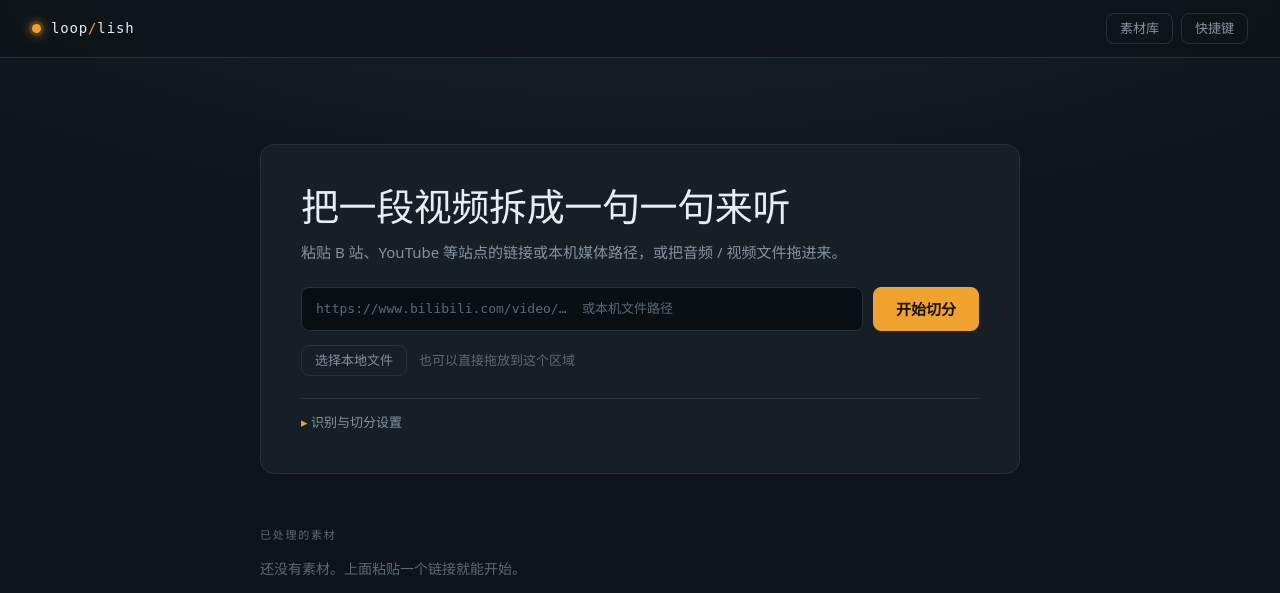
Test case: submission › pastes the link over the selection and keeps the rest of the input
This screenshot has width=1280, height=593.
Step 1. Type "https://old.test/v" into the field named "视频链接或本机媒体路径" → [582, 309], box [301,287,863,330]
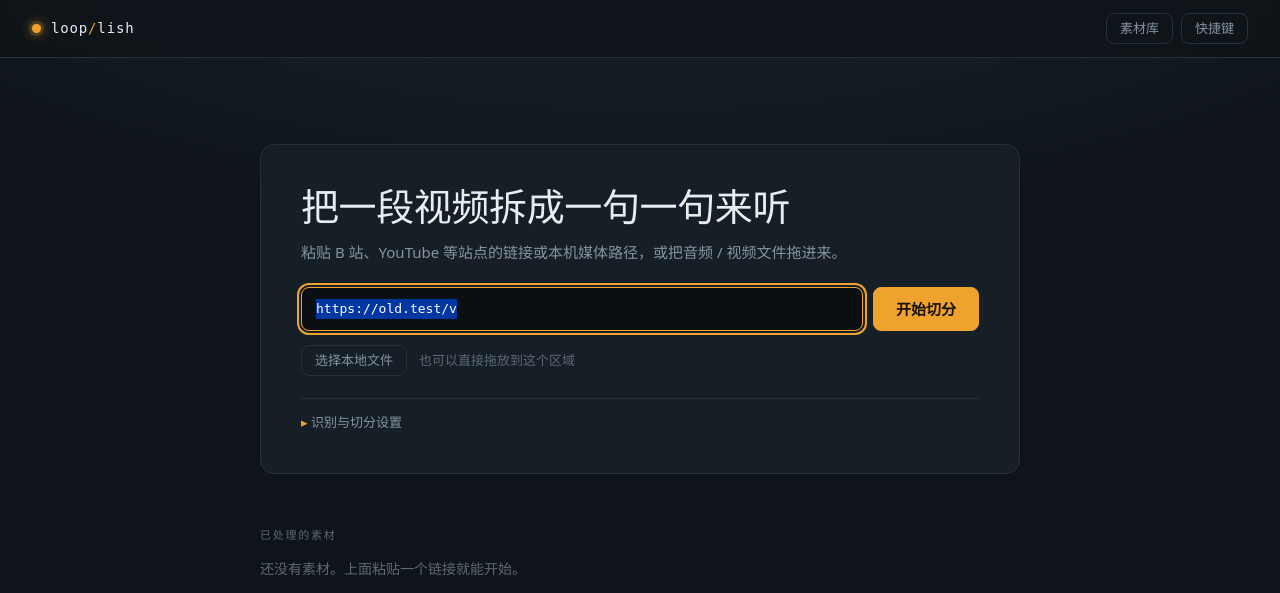
Step 2. Type keys "【新视频】 https://new.test/v"
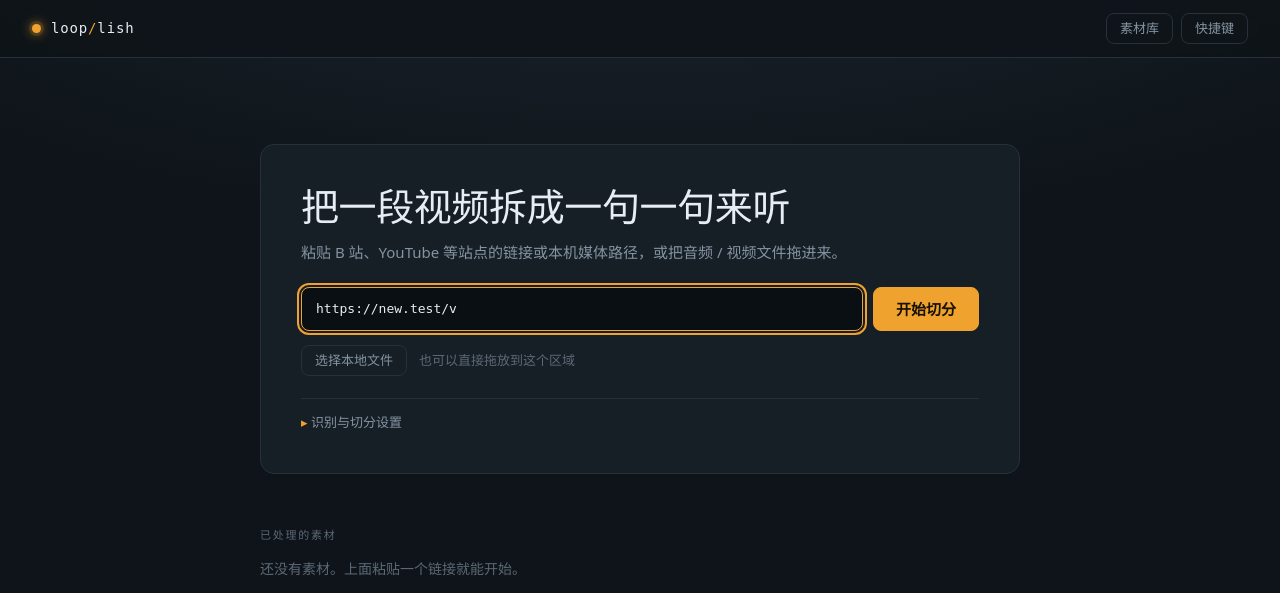
Result: the field named "视频链接或本机媒体路径" holds "https://new.test/v" at [301,287,863,330]
